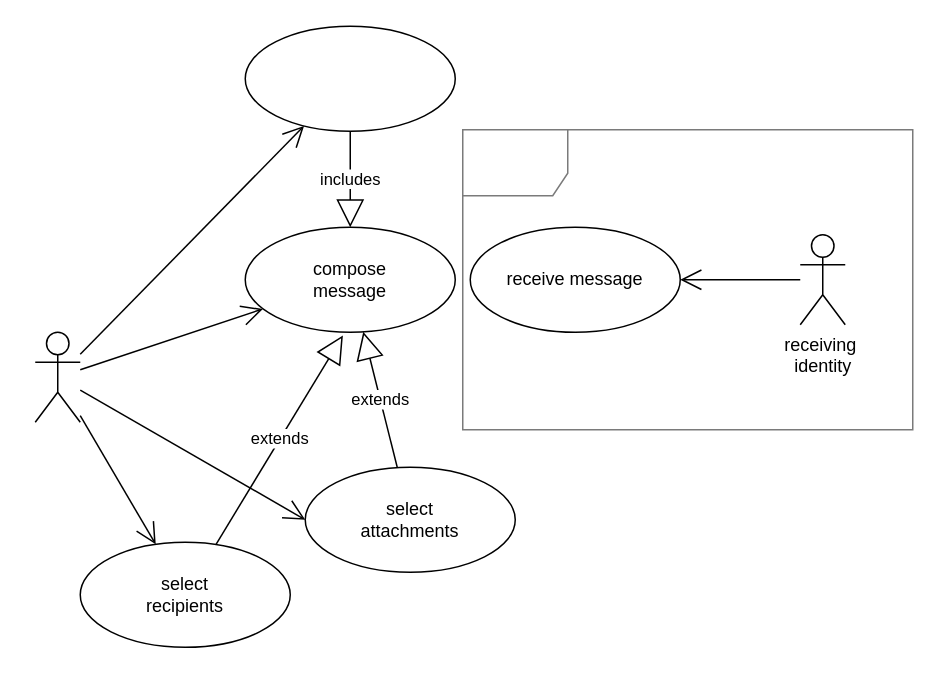
Image size: 939x674. Some labels were removed from this diagram. The centre of each missing label's shape, as x and y in pixels:
multiple recipients: point 687,279
send message: point 349,78
sending identity: point 57,376
